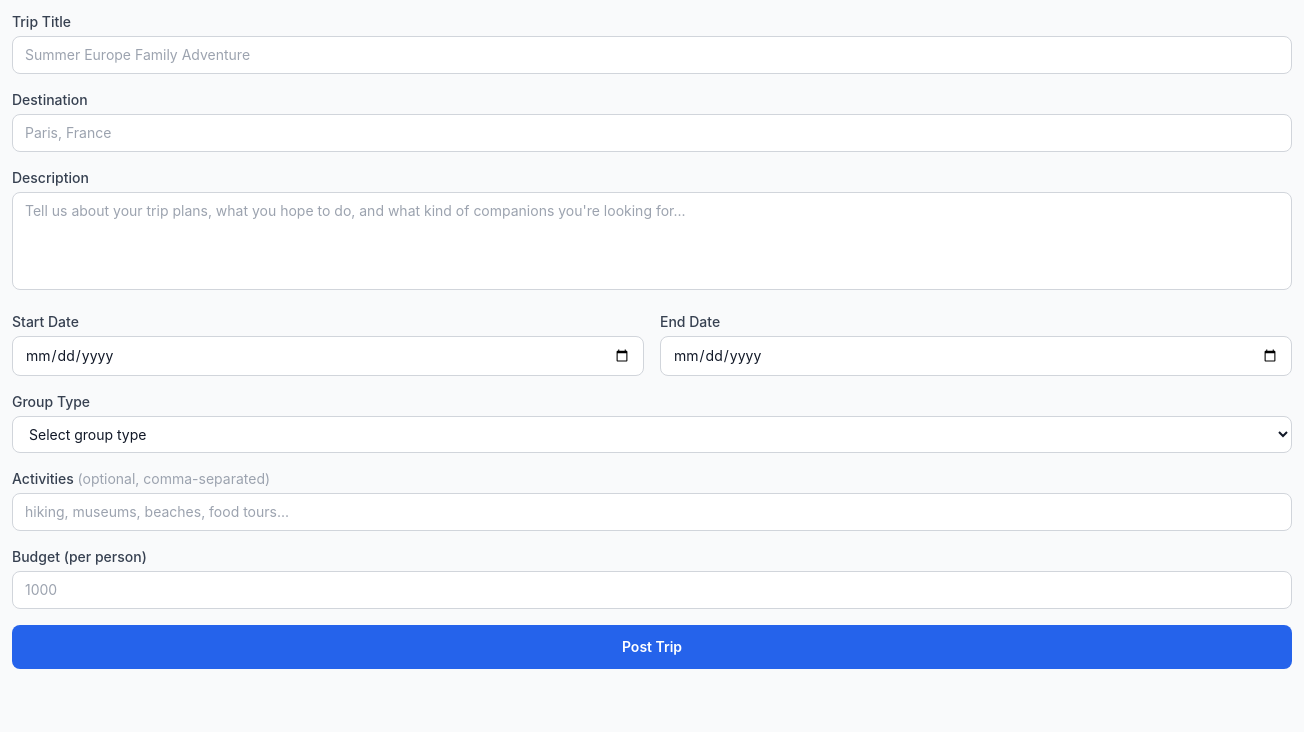
TripForm › shows end-date error when end < start
The image size is (1304, 732).
Step 1. Type "Bad Dates" into the field with placeholder "Summer Europe Family Adventure" → (652, 55), box [12,36,1292,74]
Step 2. Type "Rome" into the field with placeholder "Paris, France" → (652, 133), box [12,114,1292,152]
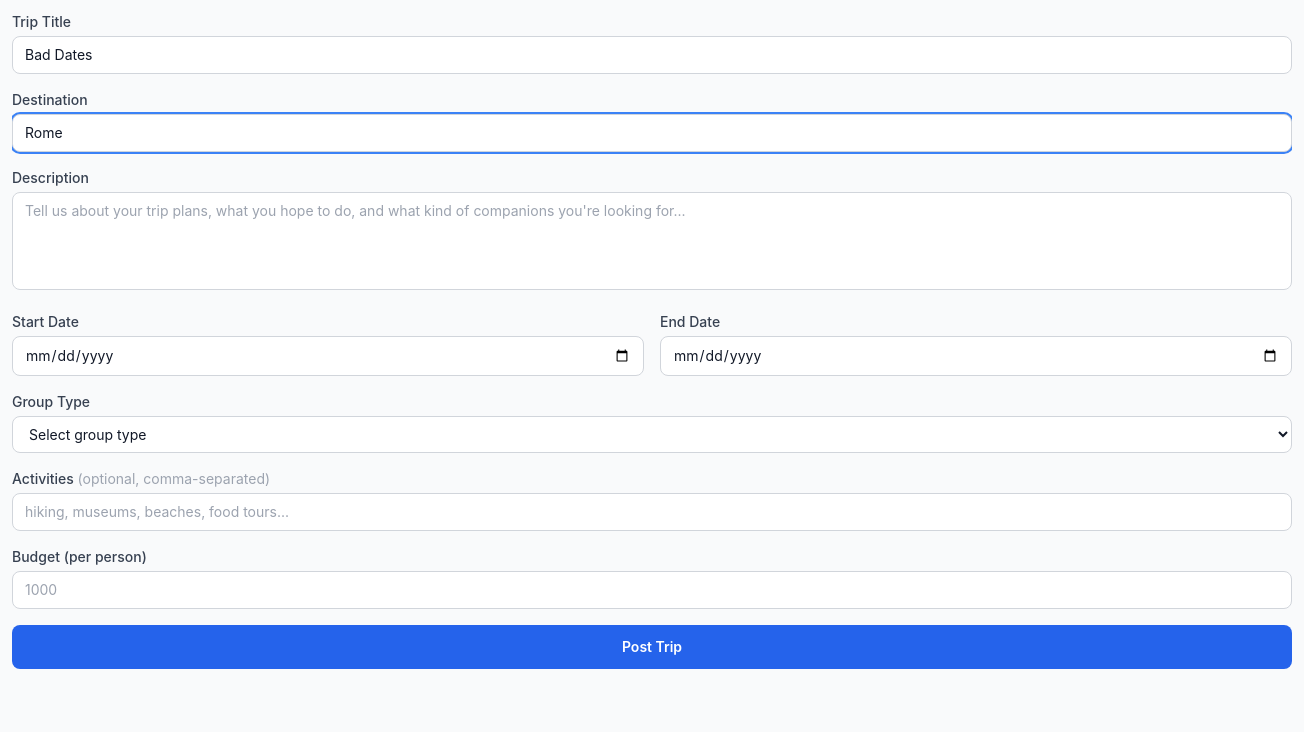
Step 3. Type "A longer description that meets the minimum requirement here." into the text box with placeholder "Tell us about your trip" → (652, 241), box [12,192,1292,290]
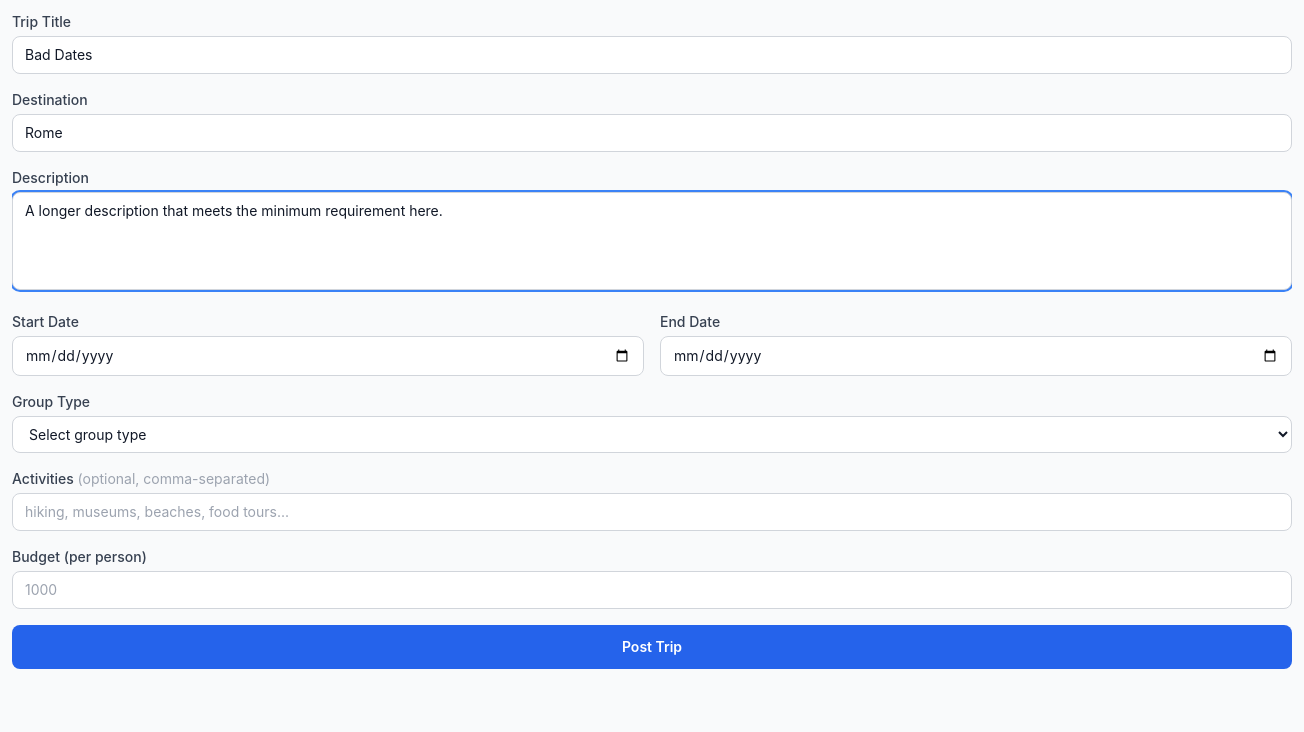
Step 4. Type "2025-09-10" into the date field below "Start Date" → (328, 356), box [12,336,644,376]
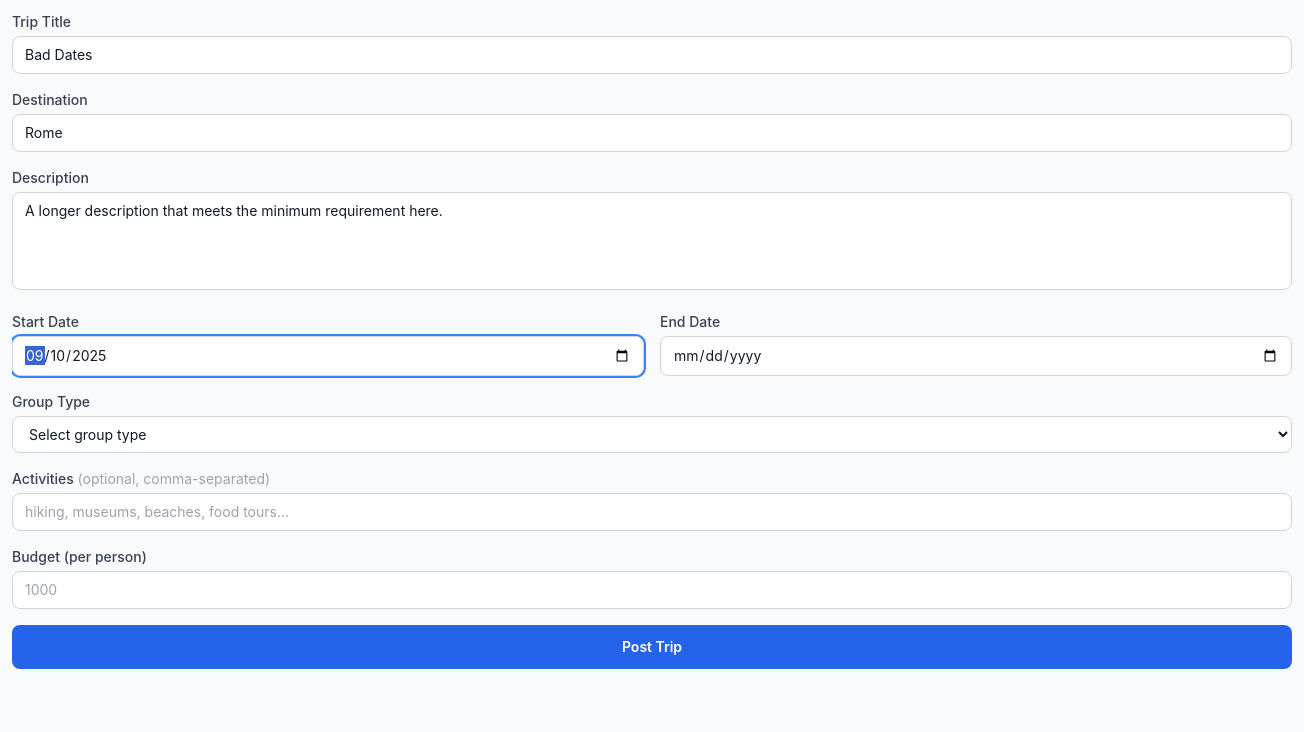
Step 5. Type "2025-09-01" into the date field below "End Date" → (976, 356), box [660,336,1292,376]
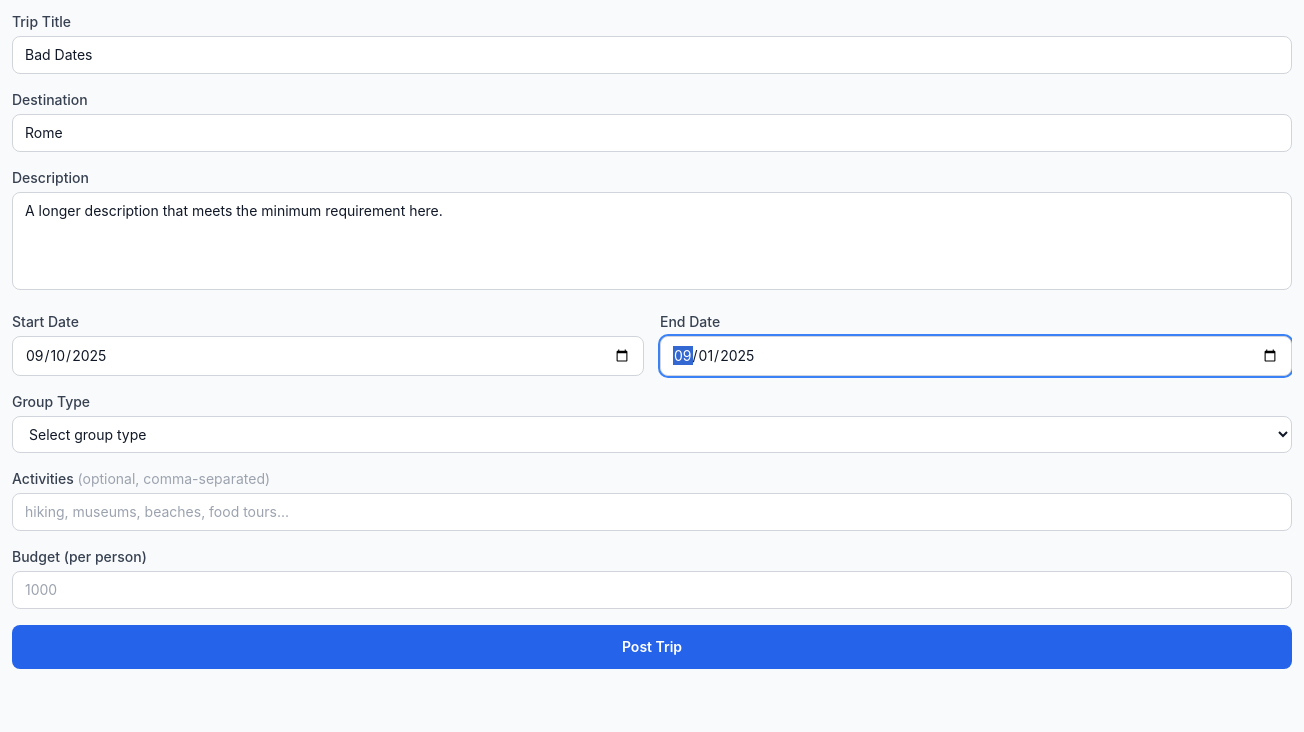
Step 6. Select "Families" in the dropdown → (652, 434), box [12,416,1292,453]
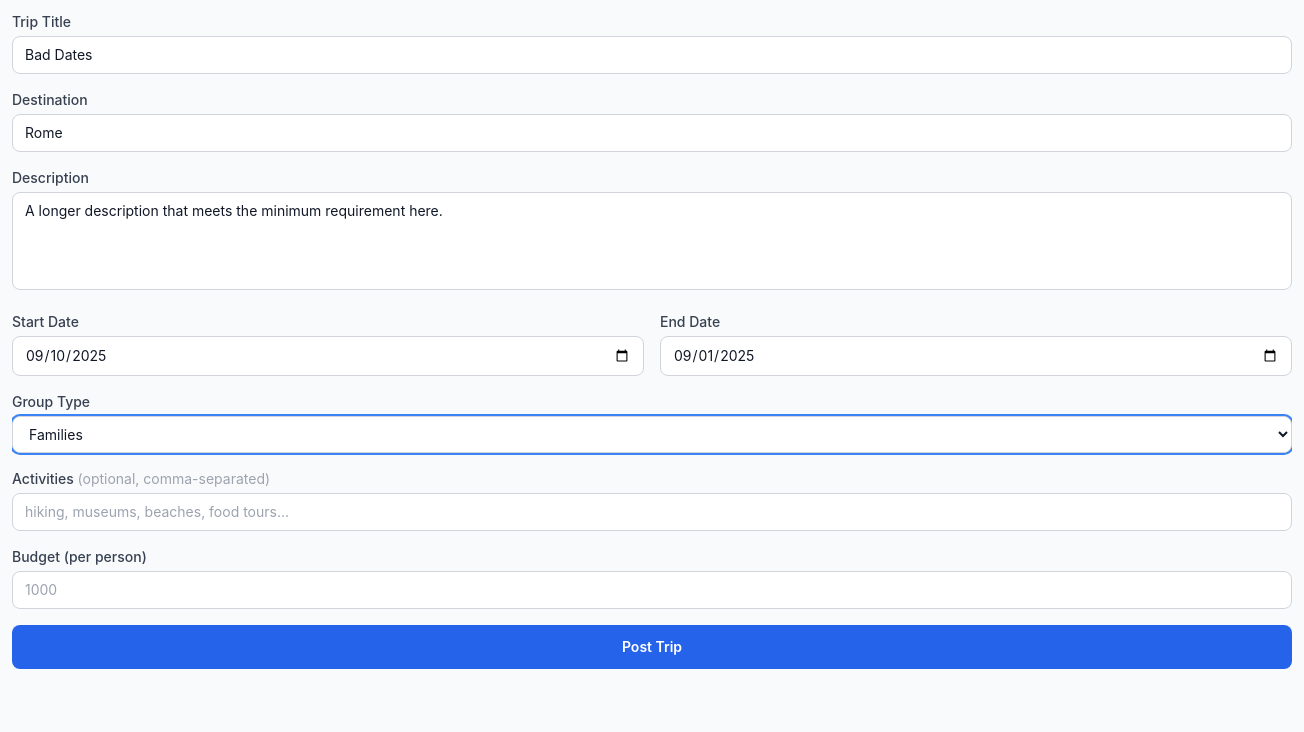
Step 7. Click the button "Post Trip" → (652, 647), box [12,625,1292,669]
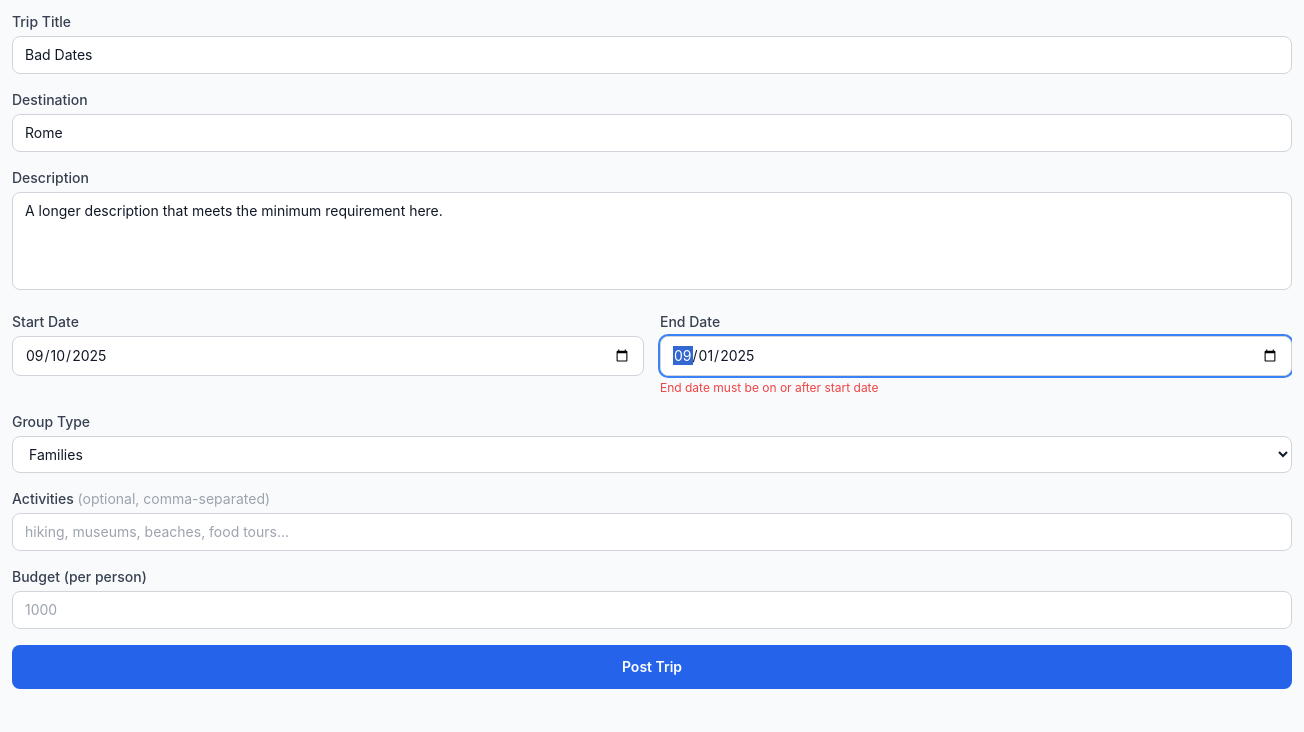
Now the text "End date must be on or after start date" is shown, box [660,380,878,395]
